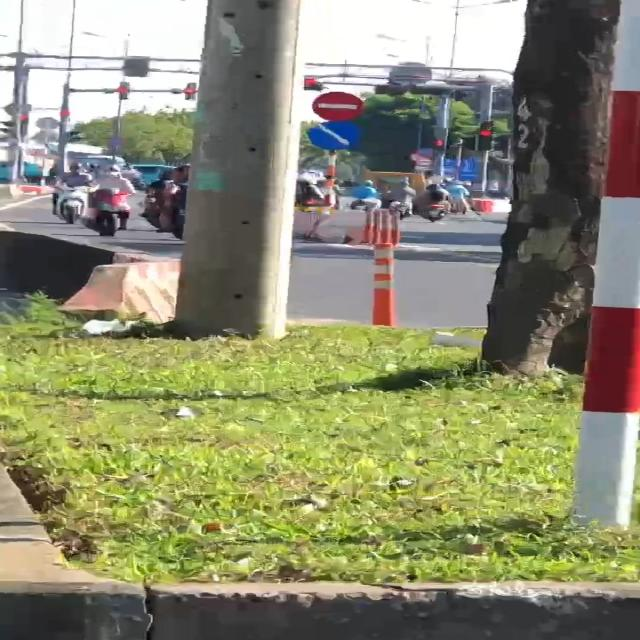Bien bao cam di nguoc chieu: (309, 90, 376, 121)
Bien bao huong phai di vong chuong ngai vat: (303, 122, 362, 150)
